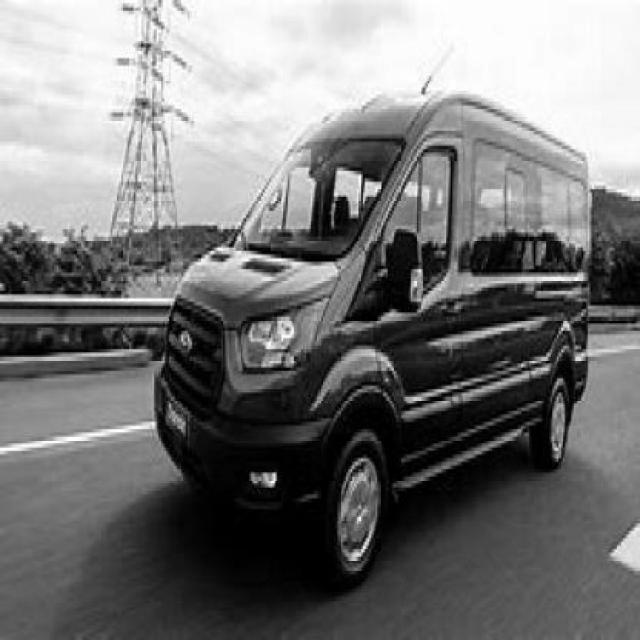Van: (152, 92, 594, 591)
